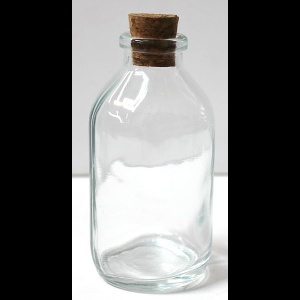emptybottle: (88, 13, 215, 292)
